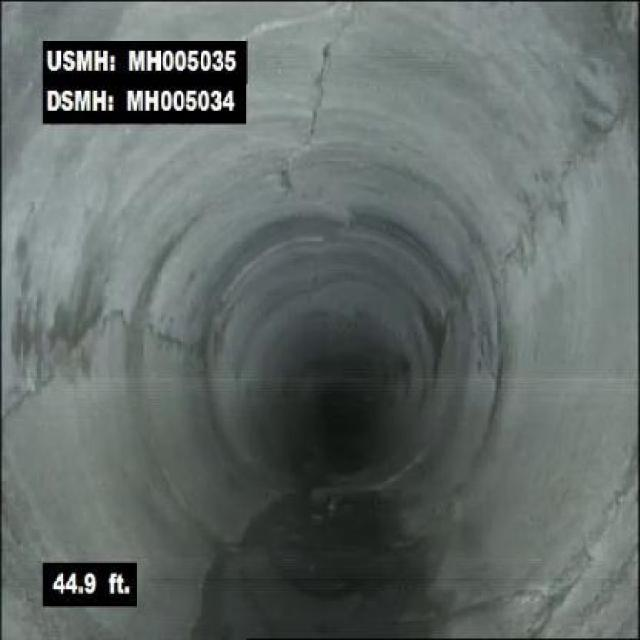Crack: (531, 452, 638, 632), (0, 303, 134, 420), (563, 88, 632, 204), (297, 9, 352, 131)
